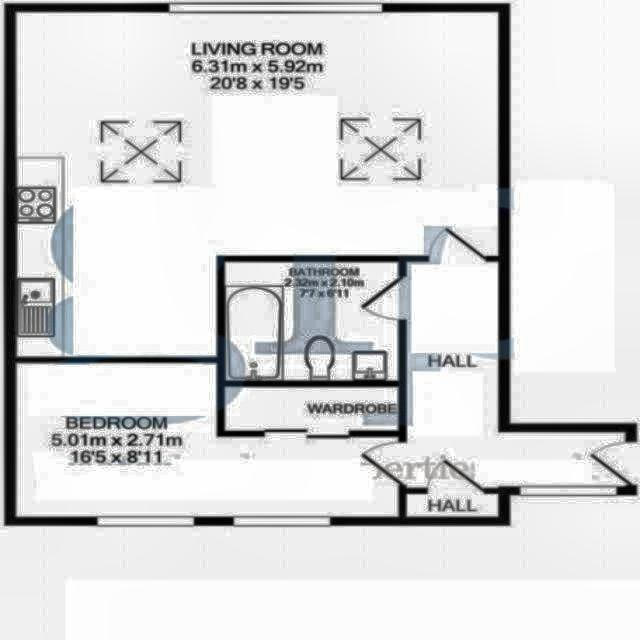room: (15, 12, 499, 357), (16, 362, 399, 517), (406, 258, 626, 489), (224, 261, 399, 381), (224, 386, 399, 431), (406, 494, 499, 518)
